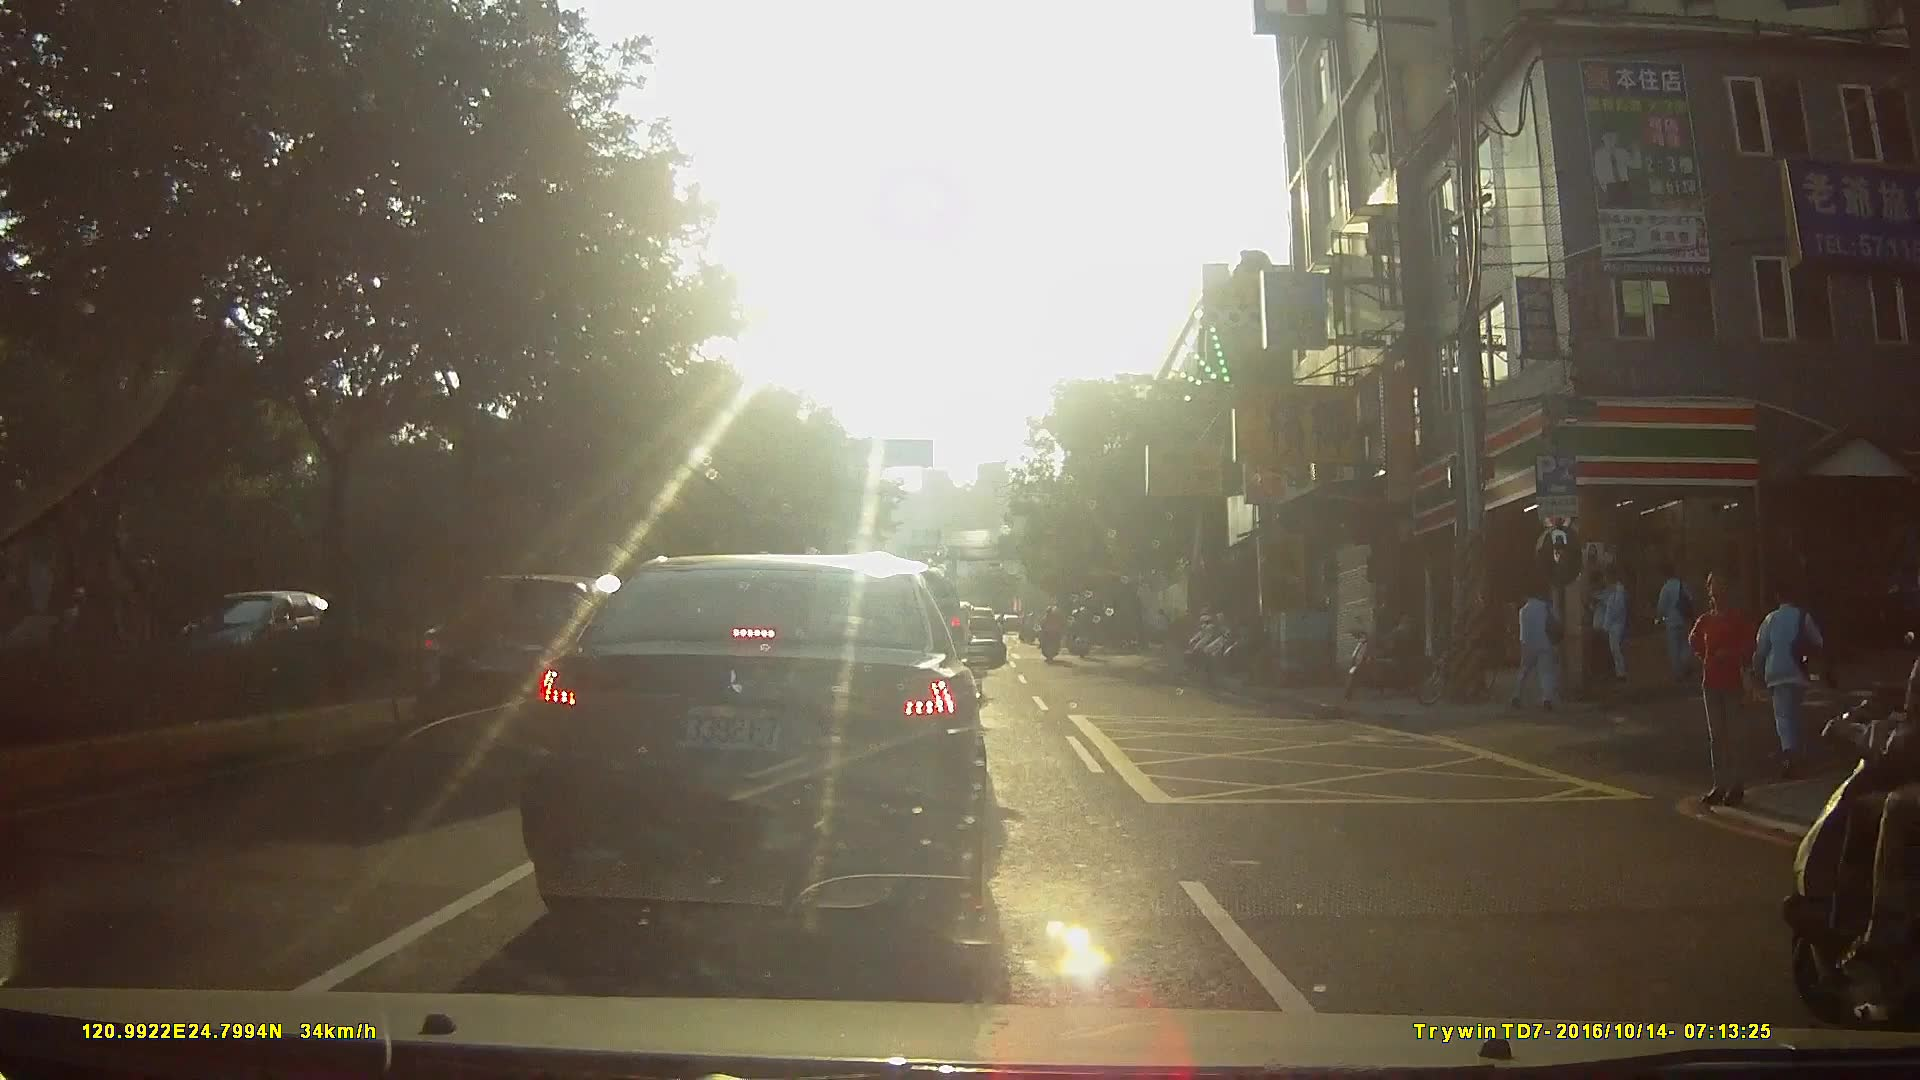pedestrian: (1685, 568, 1758, 805), (1751, 585, 1826, 780), (1511, 579, 1565, 714), (1584, 567, 1628, 686), (1659, 565, 1699, 676), (1584, 567, 1607, 693)
rider: (1788, 520, 1920, 1045), (1039, 606, 1066, 667), (1067, 608, 1092, 661)
vehicle: (510, 548, 1012, 940), (410, 566, 683, 767), (155, 587, 344, 681)
